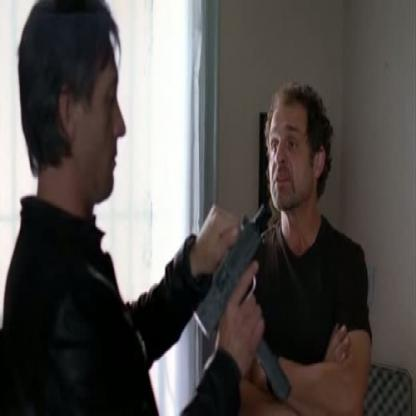Guns: (190, 198, 294, 407)
